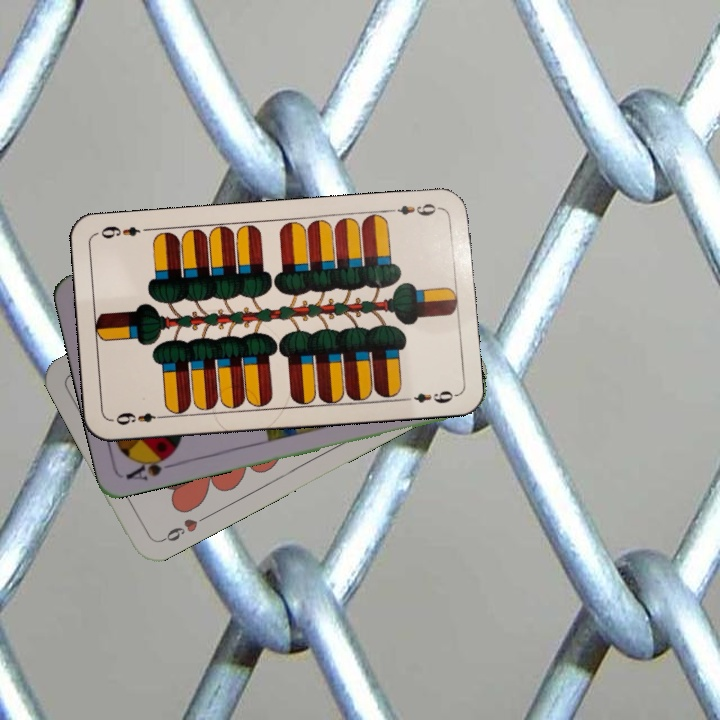E9: (384, 199, 443, 219), (112, 408, 168, 428)
H9: (155, 511, 210, 546)
SA: (121, 448, 180, 483)
